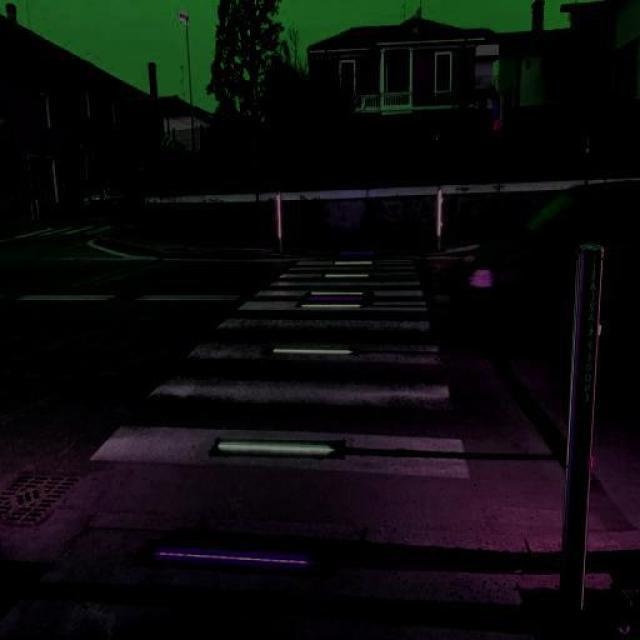crosswalk: (80, 257, 474, 483)
